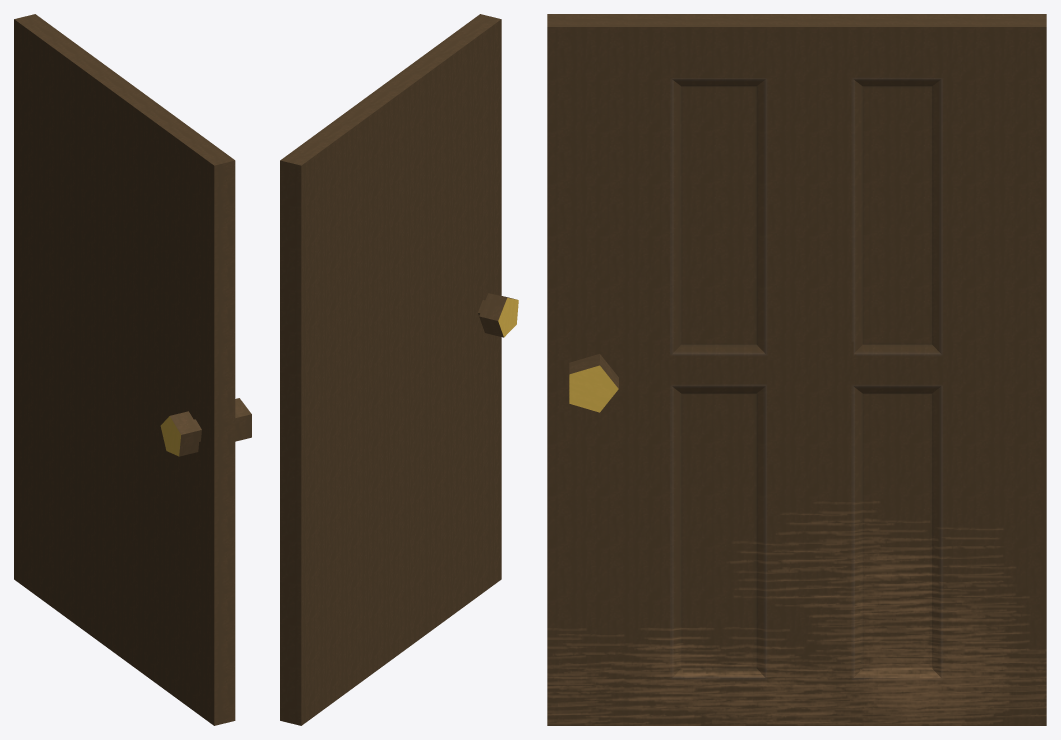
The model's file is RegularDoor.fbx.
3 renders of one model, left to right at view 1: azimuth 30°, elevation 25°; view 2: azimuth 150°, elevation 25°; view 3: azimuth 270°, elevation 25°, orthographic. The views are drawn at different scales.
Visible parts, largest first — view 1: RegularDoor; view 2: RegularDoor; view 3: RegularDoor.
Part boxes in pixels (<box>): RegularDoor: <box>14,14,251,725</box>; RegularDoor: <box>280,14,518,725</box>; RegularDoor: <box>547,14,1046,725</box>.
Size of the model in its own units: 35.52 by 266 by 172.
